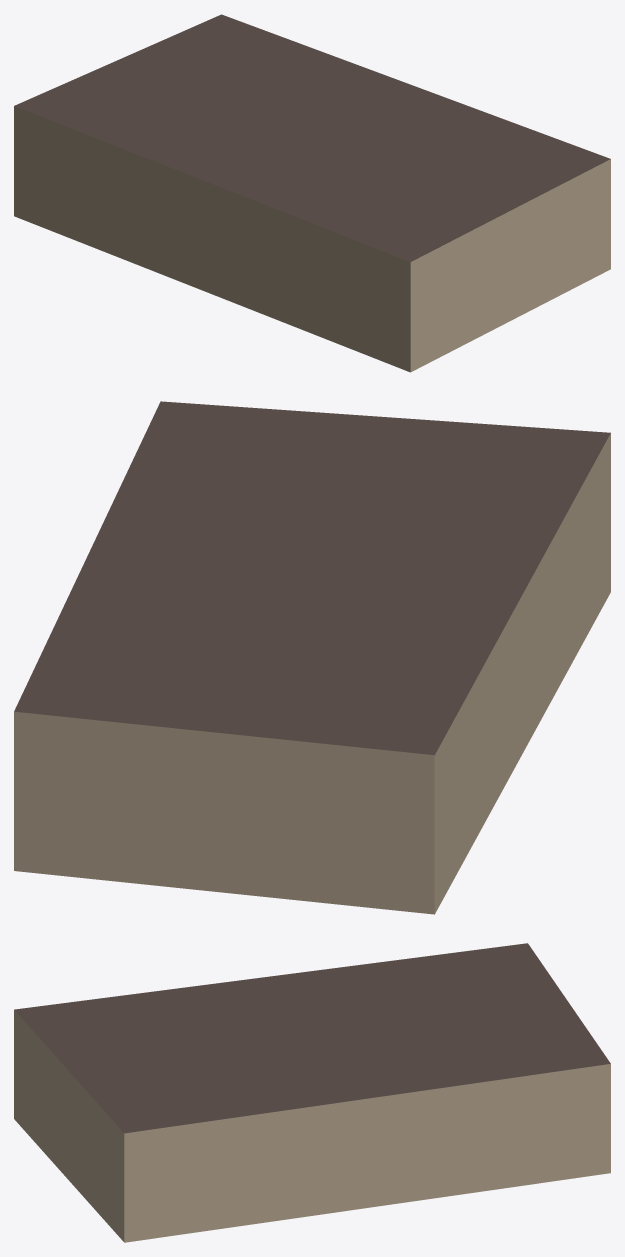
3 views of the same model, one above another, from view 1: azimuth 30°, elevation 25°; view 2: azimuth 150°, elevation 25°; view 3: azimuth 270°, elevation 25° (orthographic). The views are drawn at different scales.
Parts seen in each view (by area): view 1: HP-w160894921; view 2: HP-w160894921; view 3: HP-w160894921.
Part boxes in pixels (bbox=[...]): HP-w160894921: bbox=[14, 14, 610, 372]; HP-w160894921: bbox=[14, 401, 610, 914]; HP-w160894921: bbox=[14, 943, 610, 1242].
Bounding box in the file's own units: 33.59 × 9 × 44.54.
